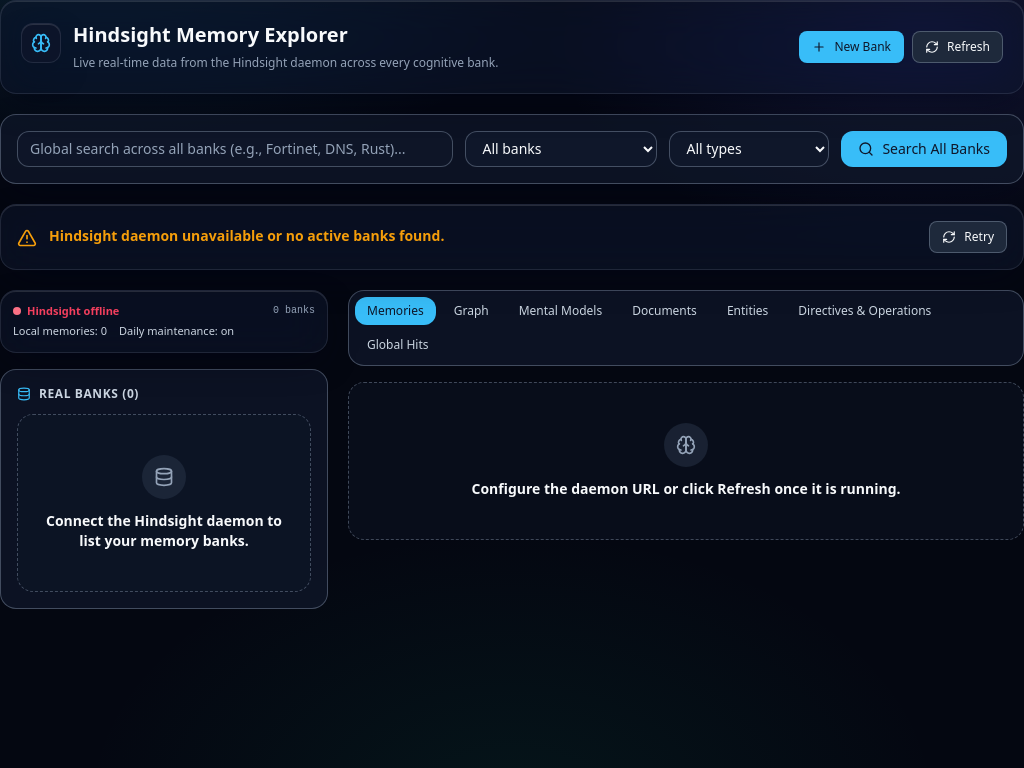
Test: HindsightPanelPage › shows honest offline/empty banner when banksList returns empty or fails
Expected: the text "Hindsight daemon unavailable or no active banks found." is shown, [49, 226, 444, 246]
Expected: the heading "Real Banks (0)" is shown, [17, 386, 139, 402]
What coordinates should you click on to do the following:
click the button "Refresh"
I would click on:
 (958, 47)
Its box is [912, 31, 1003, 63].
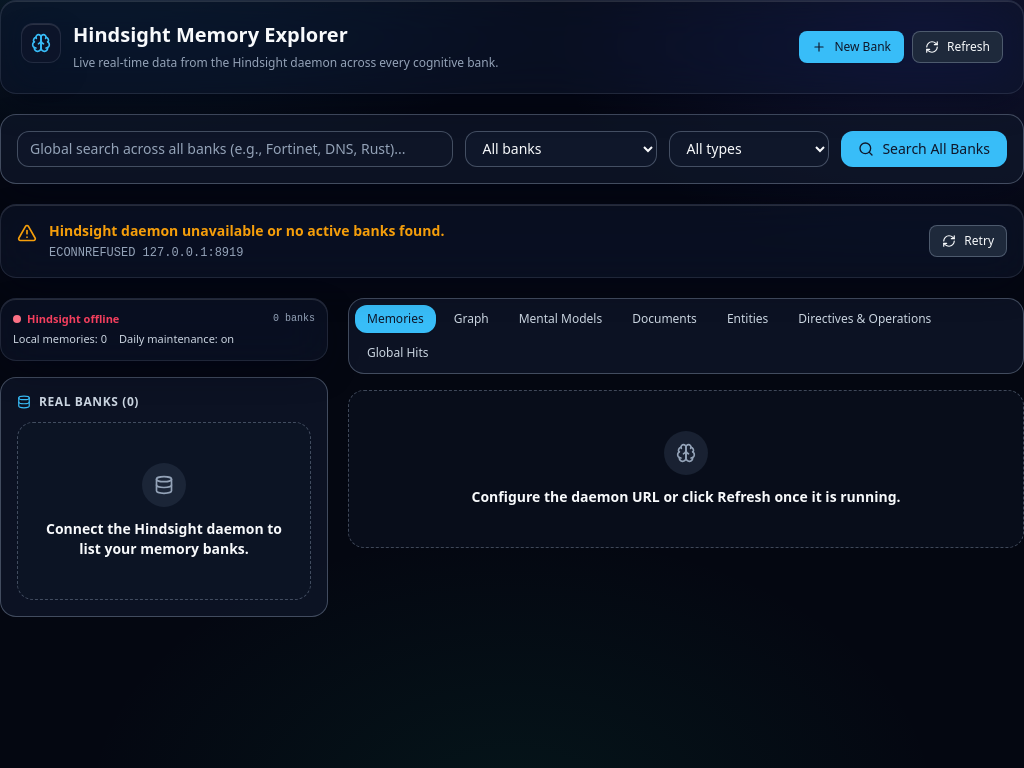
Result: the text "ECONNREFUSED 127.0.0.1:8919" is shown at [49, 246, 243, 260]
